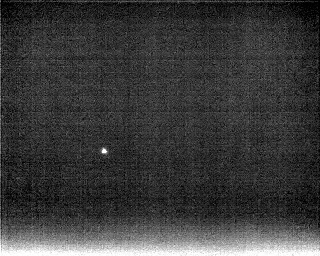BIRD: (99, 145, 110, 157)
